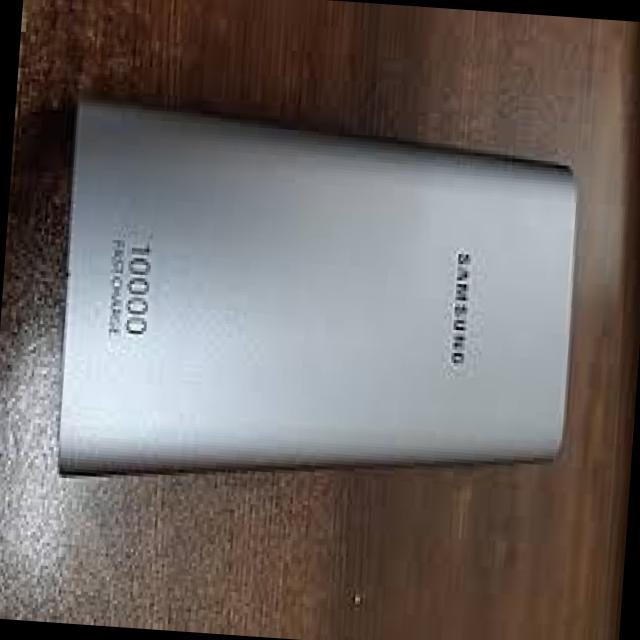portable-charger: (43, 92, 583, 514)
